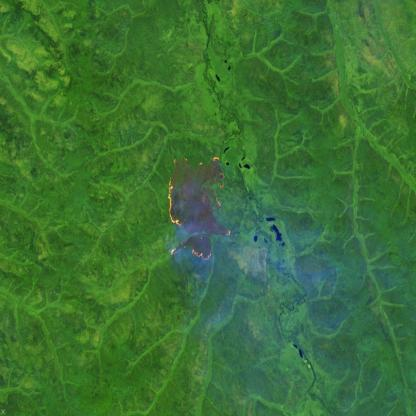fire: (166, 152, 233, 264)
